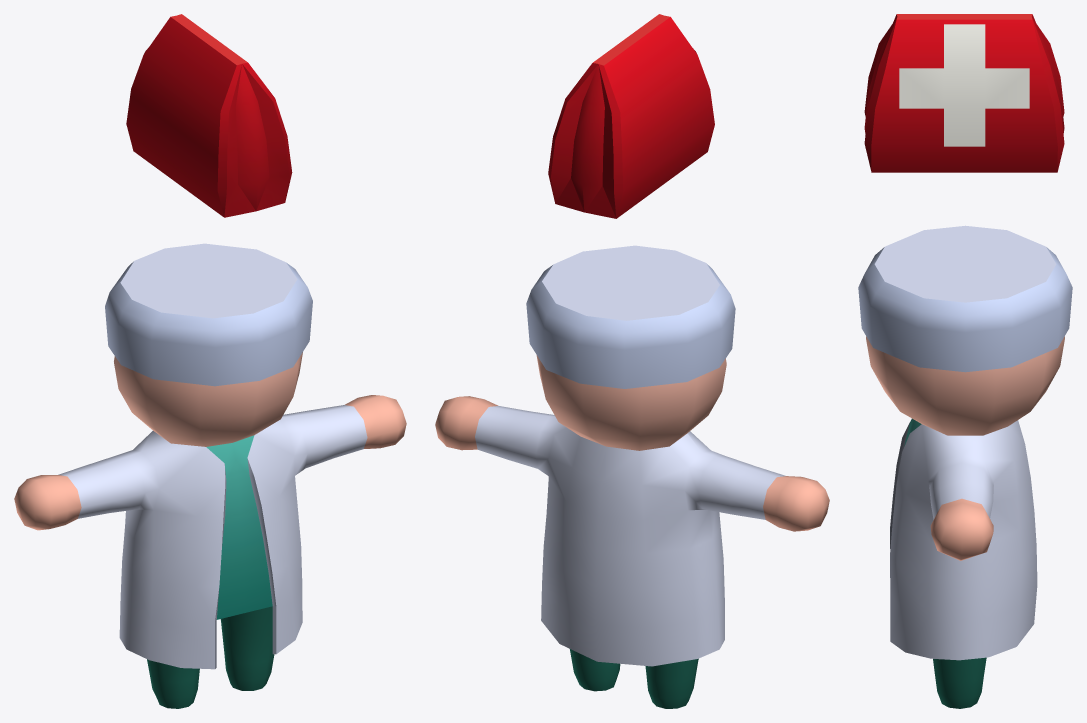
The model's file is Nurse.FBX.
The picture shows the model from 3 angles, left to right: view 1: azimuth 30°, elevation 25°; view 2: azimuth 150°, elevation 25°; view 3: azimuth 270°, elevation 25°; orthographic projection. The views are drawn at different scales.
Visible parts, largest first — view 1: Nurse, Nurse_1; view 2: Nurse, Nurse_1; view 3: Nurse, Nurse_1.
Part boxes in pixels (<box>): Nurse: <box>14,243,406,708</box>; Nurse_1: <box>126,14,292,217</box>; Nurse: <box>435,245,829,708</box>; Nurse_1: <box>548,14,714,218</box>; Nurse: <box>858,225,1072,708</box>; Nurse_1: <box>864,14,1064,172</box>.
Size of the model in its own units: 5.78 by 9.43 by 2.75.
